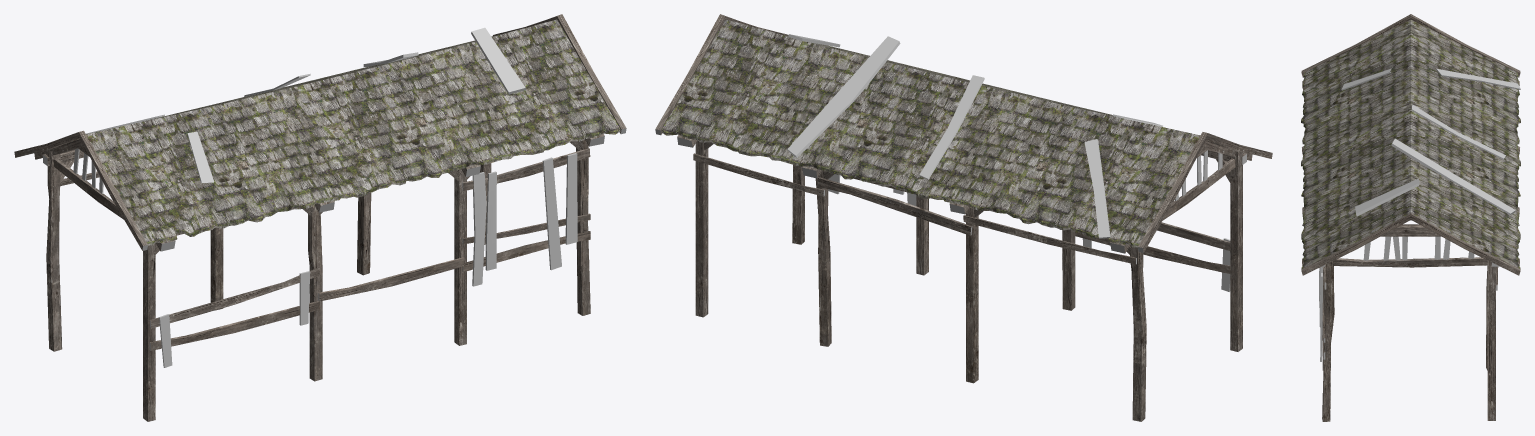
Rendered from Shed7.fbx.
3 views of the same model, side by side, from view 1: azimuth 30°, elevation 25°; view 2: azimuth 150°, elevation 25°; view 3: azimuth 270°, elevation 25° (orthographic). The views are drawn at different scales.
Parts seen in each view (by area): view 1: polySurface1278; view 2: polySurface1278; view 3: polySurface1278.
Part boxes in pixels (x1,y1,x2,y2): polySurface1278: (14,14,626,421); polySurface1278: (655,14,1272,421); polySurface1278: (1301,14,1520,421).
Bounding box in the file's own units: 10.66 × 5.56 × 4.95.
